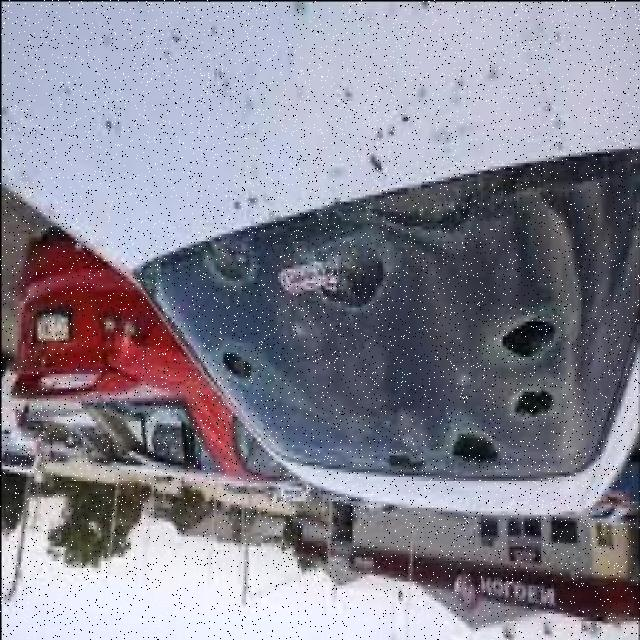damage: (148, 150, 632, 478)
